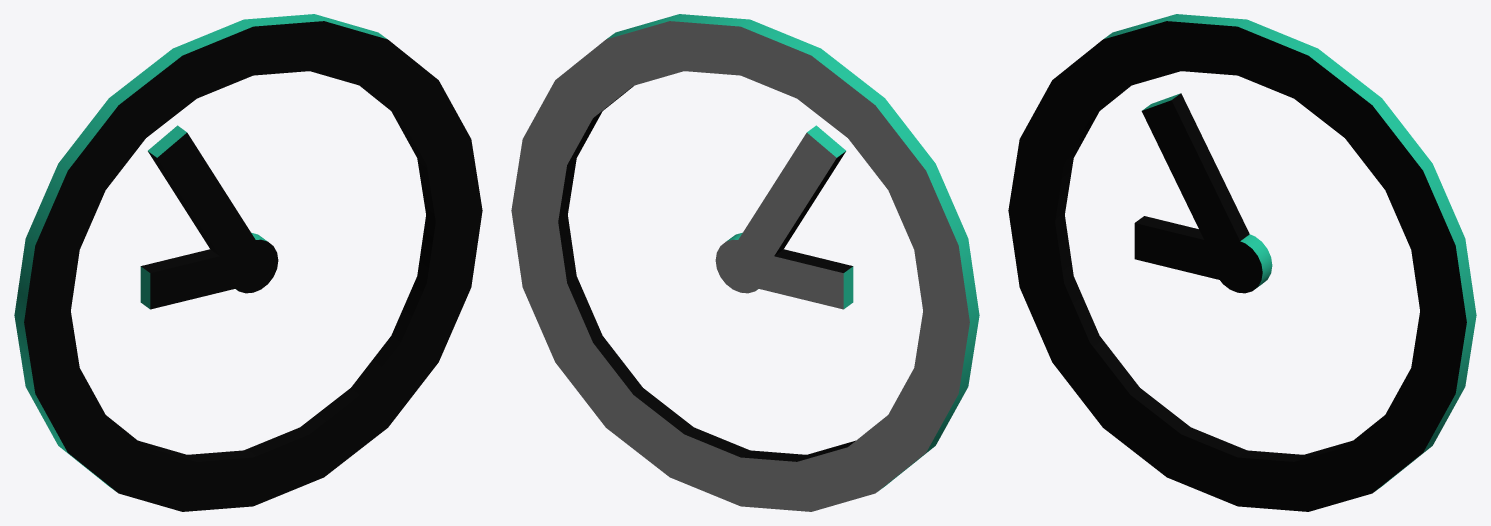
Rendered from Clock.FBX.
3 views of the same model, side by side, from view 1: azimuth 30°, elevation 25°; view 2: azimuth 150°, elevation 25°; view 3: azimuth 330°, elevation 25° (orthographic).
Parts seen in each view (by area): view 1: Tube001; view 2: Tube001; view 3: Tube001.
Part boxes in pixels (x1,y1,x2,y2): Tube001: [14, 14, 482, 511]; Tube001: [511, 14, 979, 511]; Tube001: [1008, 14, 1476, 511].
Size of the model in its own units: 1646 by 1646 by 60.
